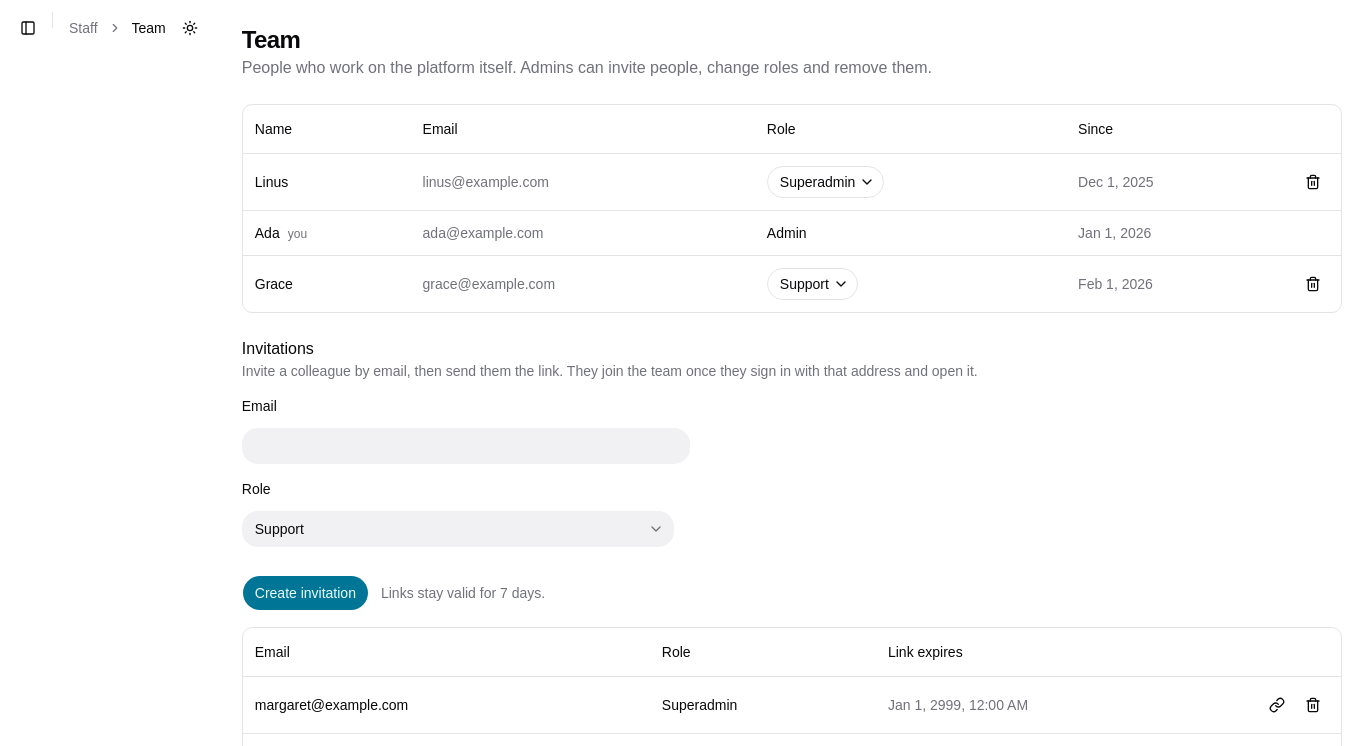
Test case: StaffTeamPage › lets a superadmin manage everyone and assign any role
Expected: the button with aria-label "Change role for Linus" is shown, [767,166,884,198]
Expected: the button named "Remove Linus" is shown, [1297,166,1329,198]
Click the button with aria-label "Change role for Grace" at (812, 284), box [767,268,858,300]
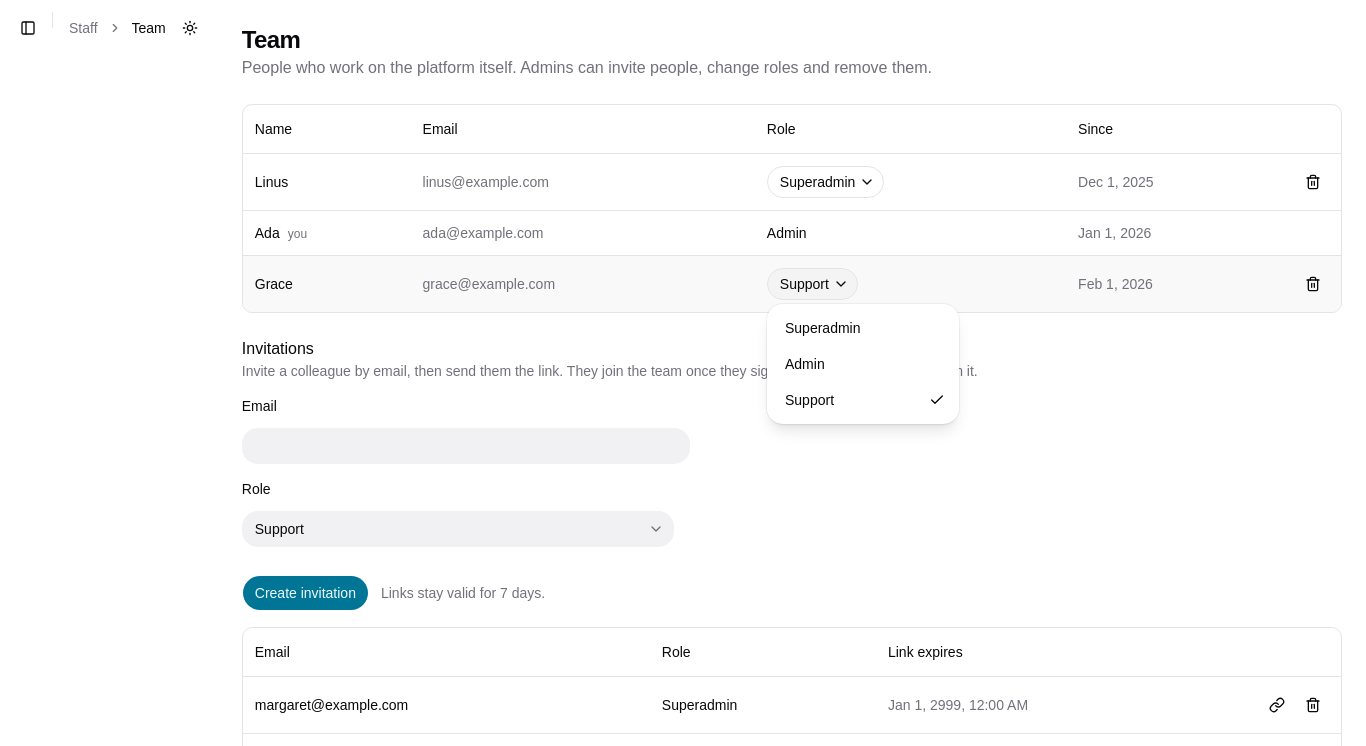
Expected: the menu item "Superadmin" is shown, [785,320,860,336]
